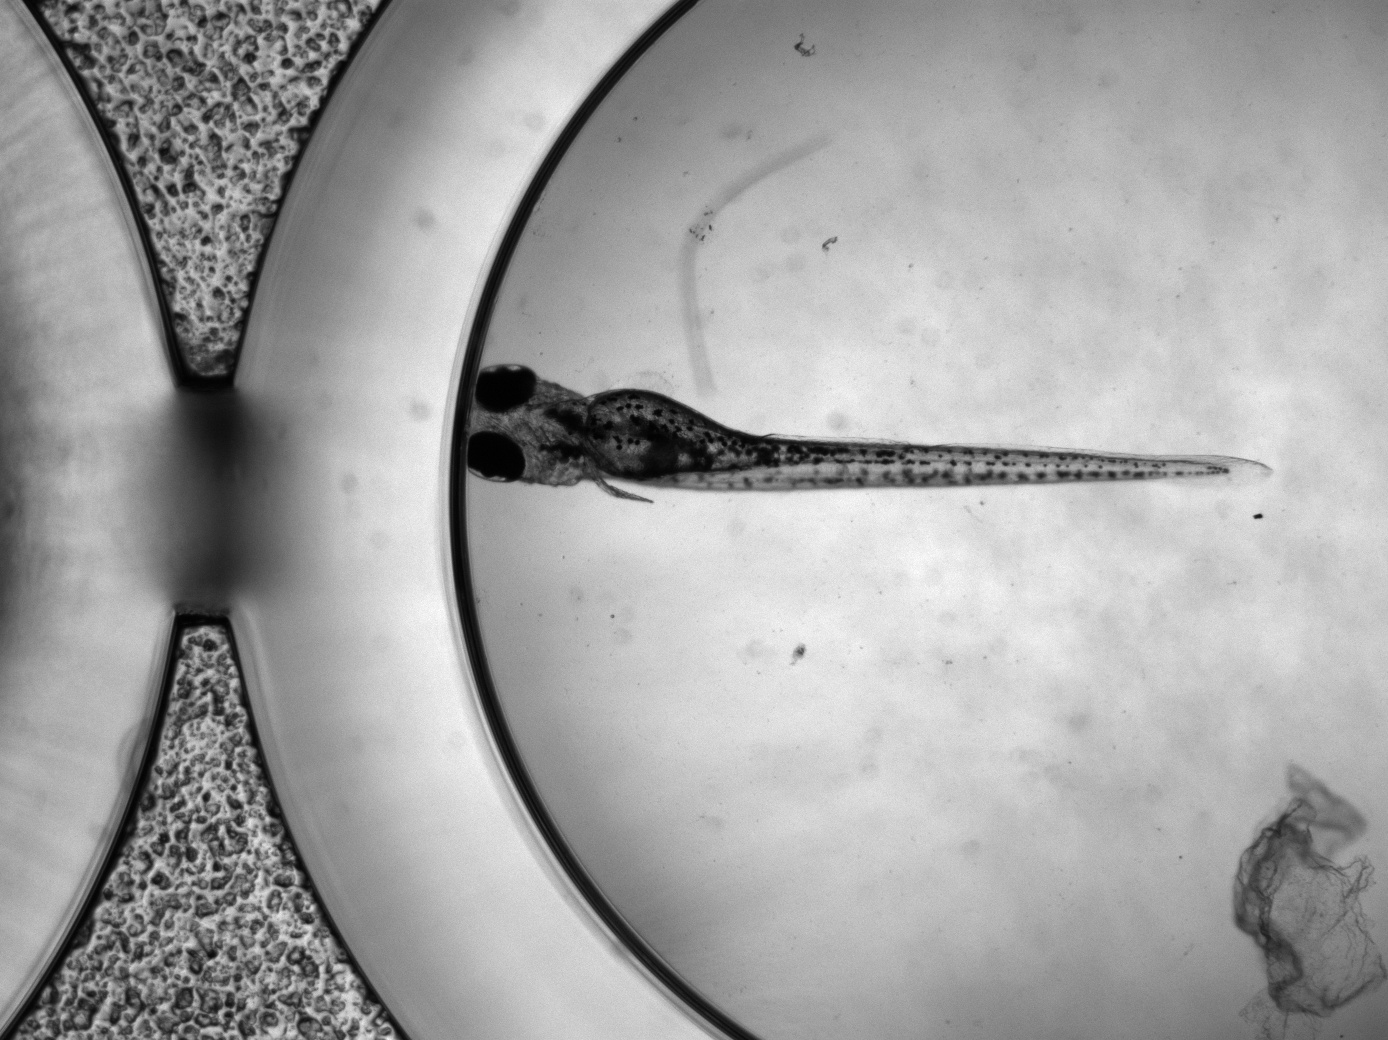embryo: (467, 365, 1232, 493)
eye: (468, 432, 526, 484), (475, 365, 536, 412)
yolksac: (586, 388, 705, 480)
